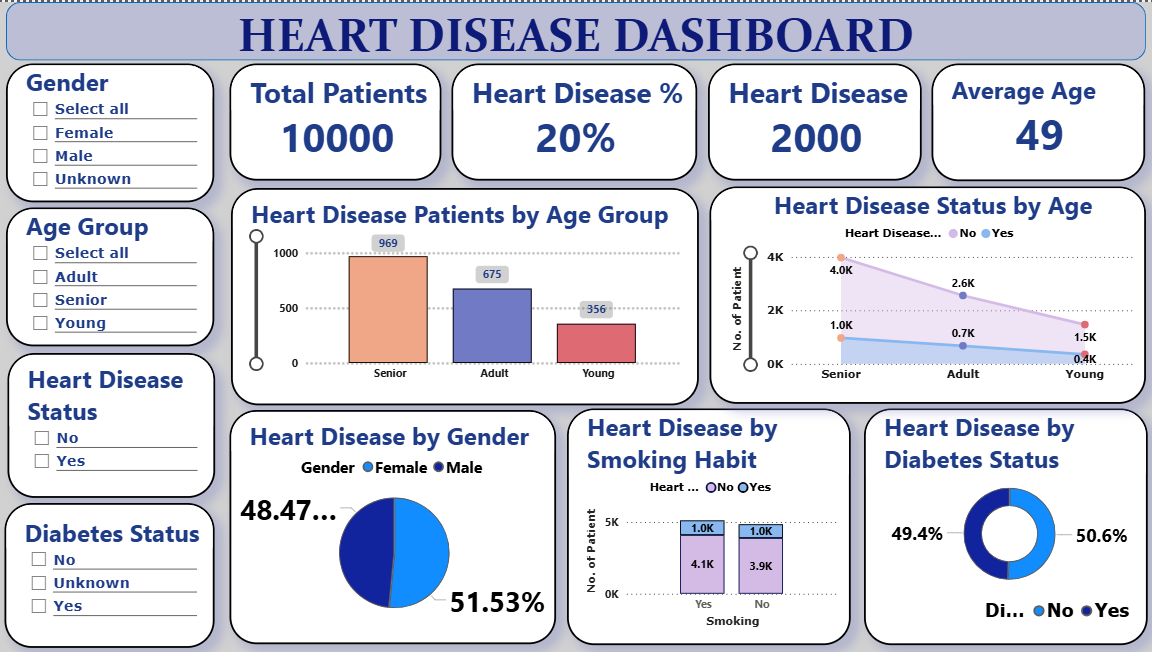

The dashboard page shown, as its layout file describes it:
{"tool":"powerbi","page":{"name":"Page 1","canvas":[1280,720],"ordinal":0},"visuals":[{"type":"shape","box":[9.9,0,1258.9,64.6],"z":0},{"type":"card","title":"Total Patients","fields":{"Values":["CountNonNull(heart_disease.Age)"]},"box":[256,67.8,234.1,129.1],"z":1000},{"type":"card","title":"Heart Disease %","fields":{"Values":["heart_disease.Heart Disease %"]},"box":[502,67.8,271.3,129.1],"z":2000},{"type":"card","title":"Heart Disease","fields":{"Values":["heart_disease.Heart Disease Patients"]},"box":[786,67.8,236.3,129.1],"z":3000},{"type":"card","title":"Average Age","fields":{"Values":["heart_disease.Heart Disease Avg"]},"box":[1032.8,67.8,236.3,130],"z":4000},{"type":"slicer","title":"Gender","fields":{"Values":["heart_disease.Gender"]},"box":[10,67.8,230,153],"z":5000},{"type":"slicer","title":"Age Group","fields":{"Values":["heart_disease.Age Group"]},"box":[10,227,229.7,153.2],"z":6000},{"type":"slicer","title":"Heart Disease Status","fields":{"Values":["heart_disease.Heart Disease Status"]},"box":[10.9,388,229,159.7],"z":7000},{"type":"slicer","title":"Diabetes Status","fields":{"Values":["heart_disease.Diabetes"]},"box":[9,553,231.9,159.7],"z":8000},{"type":"clusteredColumnChart","fields":{"Category":["heart_disease.Age Group"],"Y":["heart_disease.Heart Disease Patients"]},"box":[258,205,516.8,240.2],"z":8001},{"type":"pieChart","title":"Heart Disease by Gender","fields":{"Category":["heart_disease.Gender"],"Y":["Sum(heart_disease.Heart Disease Flag)"]},"box":[256.5,451.2,361,258.8],"z":8002},{"type":"columnChart","title":"Heart Disease by Smoking Habit","fields":{"Category":["heart_disease.Smoking"],"Series":["heart_disease.Heart Disease Status"],"Y":["CountNonNull(heart_disease.Age)"]},"box":[629.3,448.8,313.5,261.2],"z":8003},{"type":"donutChart","title":"Heart Disease by Diabetes Status","fields":{"Category":["heart_disease.Diabetes"],"Y":["Sum(heart_disease.Heart Disease Flag)"]},"box":[957,448.8,313.5,261.2],"z":8004},{"type":"areaChart","title":"Heart Disease Status by Age","fields":{"Y":["CountNonNull(heart_disease.Age)"],"Series":["heart_disease.Heart Disease Status"],"Category":["heart_disease.Age Group"]},"box":[786,204.2,482.1,239.9],"z":8005}]}

Visuals, with their boxes in screenshot pixels (x1, y1, x2, y2), scaled from the page's 1280x720 canvas onto the 1152x652 screenshot:
shape: l=9, t=0, r=1142, b=58
"Total Patients" card: l=230, t=61, r=441, b=178
"Heart Disease %" card: l=452, t=61, r=696, b=178
"Heart Disease" card: l=707, t=61, r=920, b=178
"Average Age" card: l=930, t=61, r=1142, b=179
"Gender" slicer: l=9, t=61, r=216, b=200
"Age Group" slicer: l=9, t=206, r=216, b=344
"Heart Disease Status" slicer: l=10, t=351, r=216, b=496
"Diabetes Status" slicer: l=8, t=501, r=217, b=645
clusteredColumnChart - heart_disease.Age Group x heart_disease.Heart Disease Patients: l=232, t=186, r=697, b=403
"Heart Disease by Gender" pieChart: l=231, t=409, r=556, b=643
"Heart Disease by Smoking Habit" columnChart: l=566, t=406, r=849, b=643
"Heart Disease by Diabetes Status" donutChart: l=861, t=406, r=1143, b=643
"Heart Disease Status by Age" areaChart: l=707, t=185, r=1141, b=402
